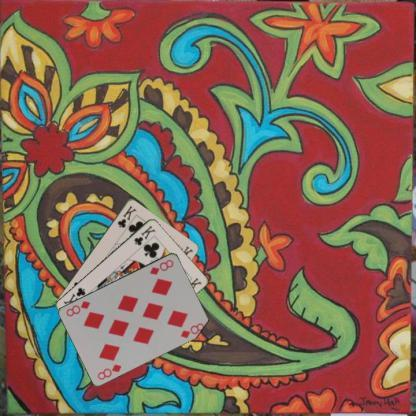8d: (147, 256, 175, 276), (95, 361, 122, 381)
Kc: (131, 222, 157, 247), (114, 203, 138, 229)
